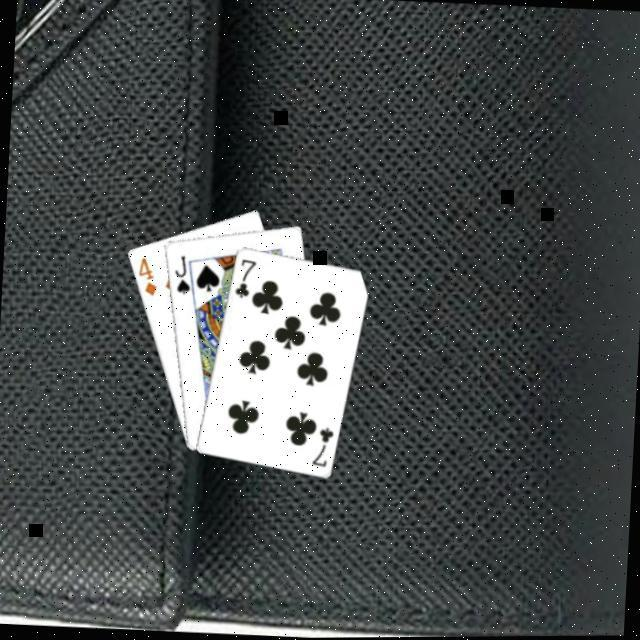4D: (132, 256, 159, 301)
7C: (307, 425, 335, 472), (229, 258, 257, 303)
JS: (168, 254, 192, 299)
